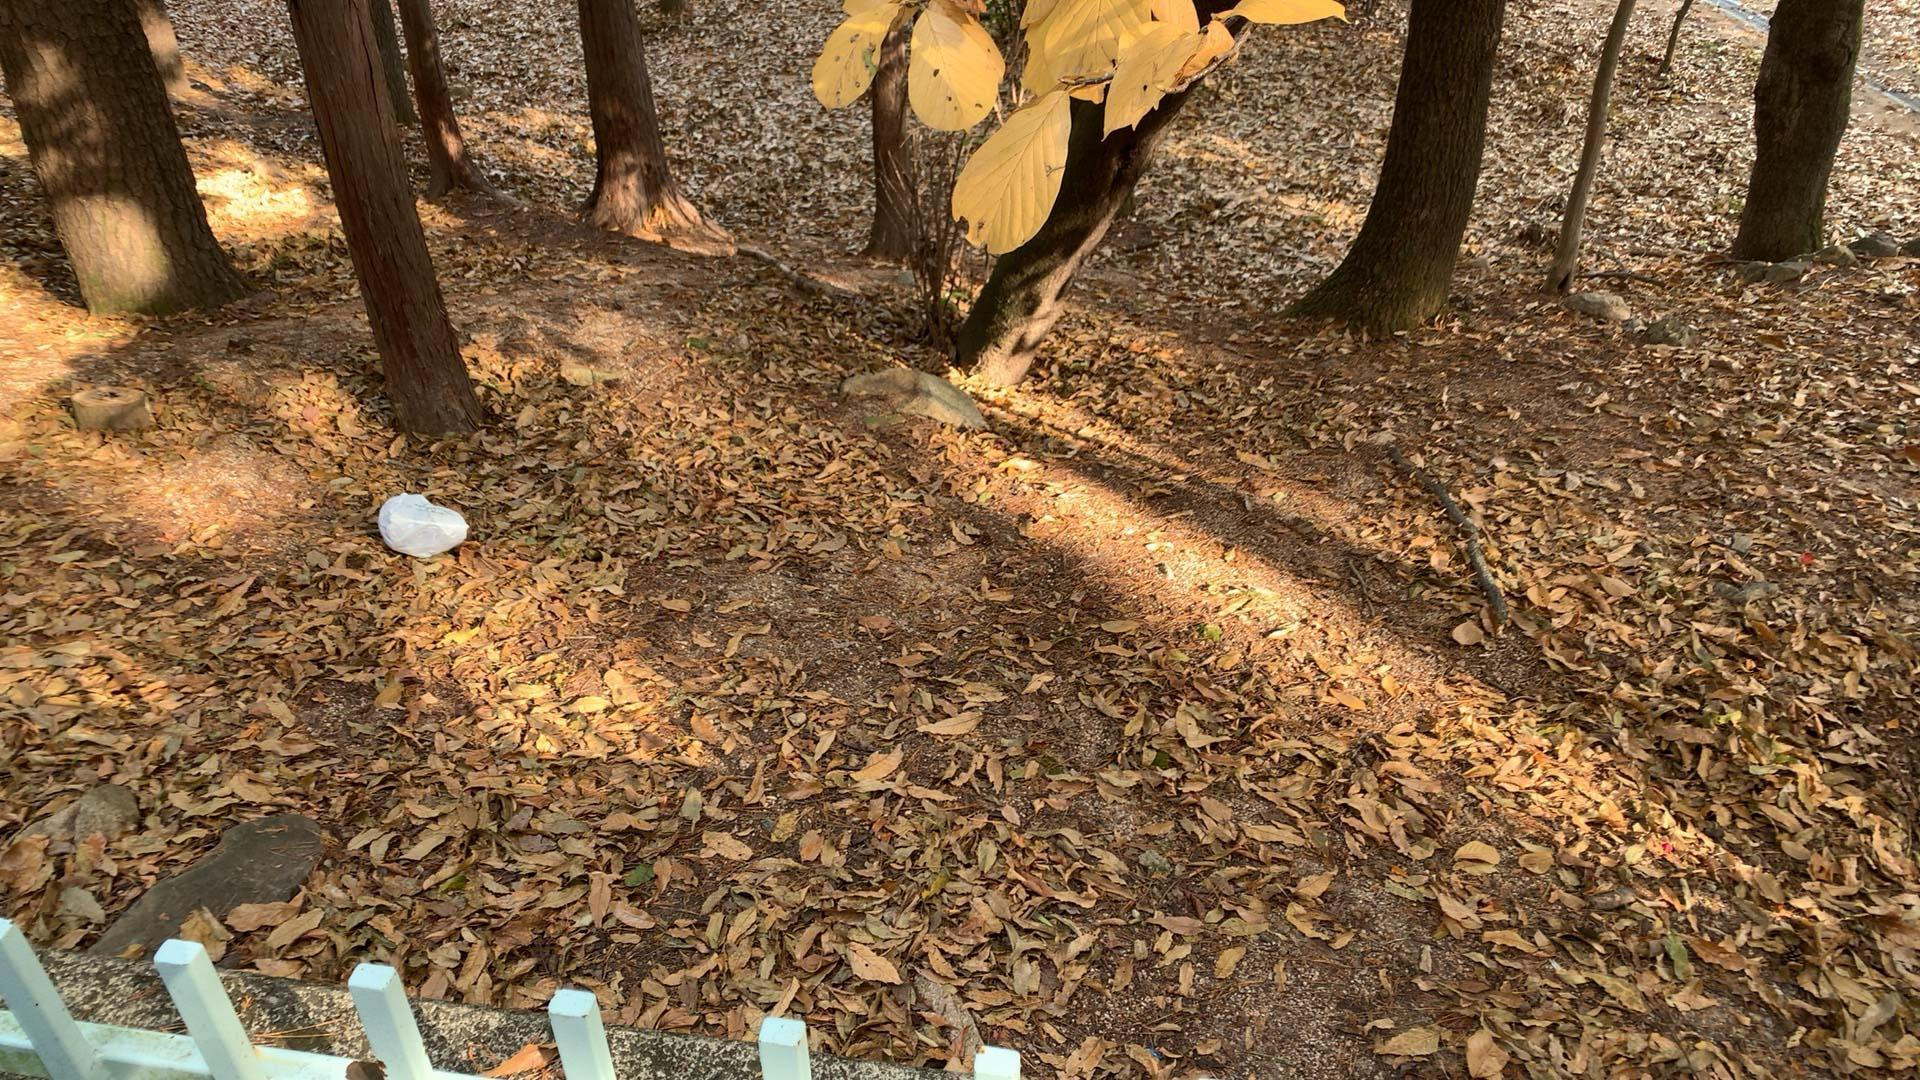white_bag: (367, 489, 477, 567)
